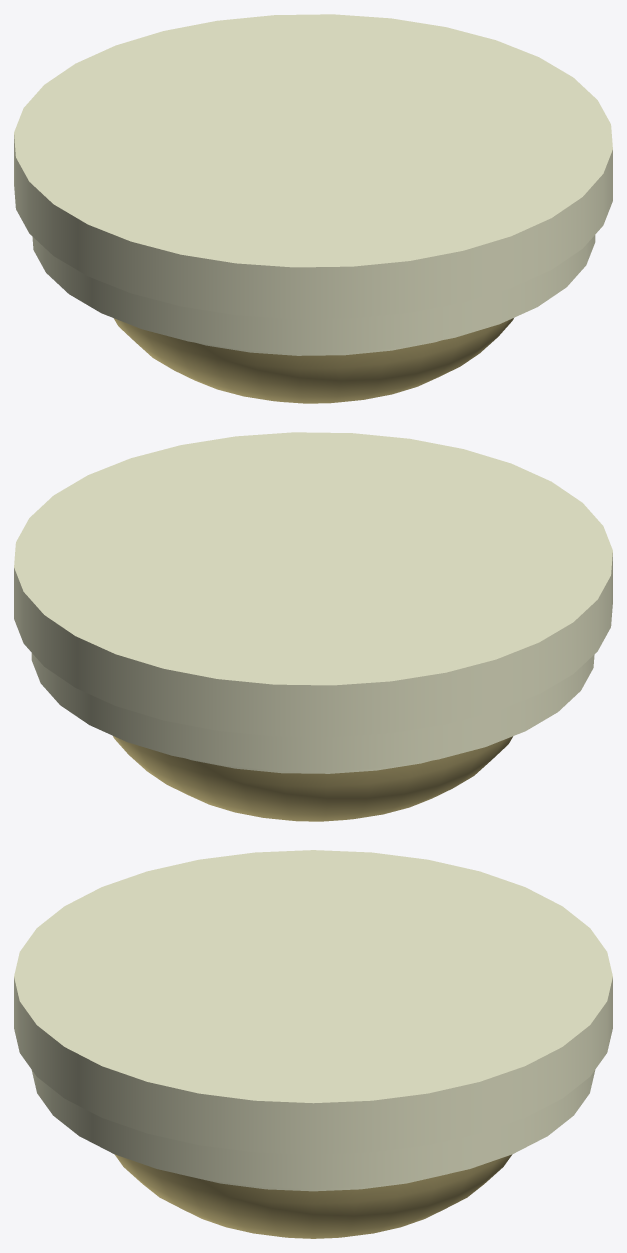
Rendered from lamba.fbx.
The picture shows the model from 3 angles, top to bottom: view 1: azimuth 30°, elevation 25°; view 2: azimuth 150°, elevation 25°; view 3: azimuth 270°, elevation 25°; orthographic projection.
Visible parts, largest first — view 1: tavan lambası; view 2: tavan lambası; view 3: tavan lambası.
Part boxes in pixels (left/top/right/bottom): tavan lambası: left=14, top=14, right=612, bottom=403; tavan lambası: left=14, top=432, right=612, bottom=821; tavan lambası: left=14, top=850, right=612, bottom=1238.
Bounding box in the file's own units: 2.69 × 1.14 × 2.69.
